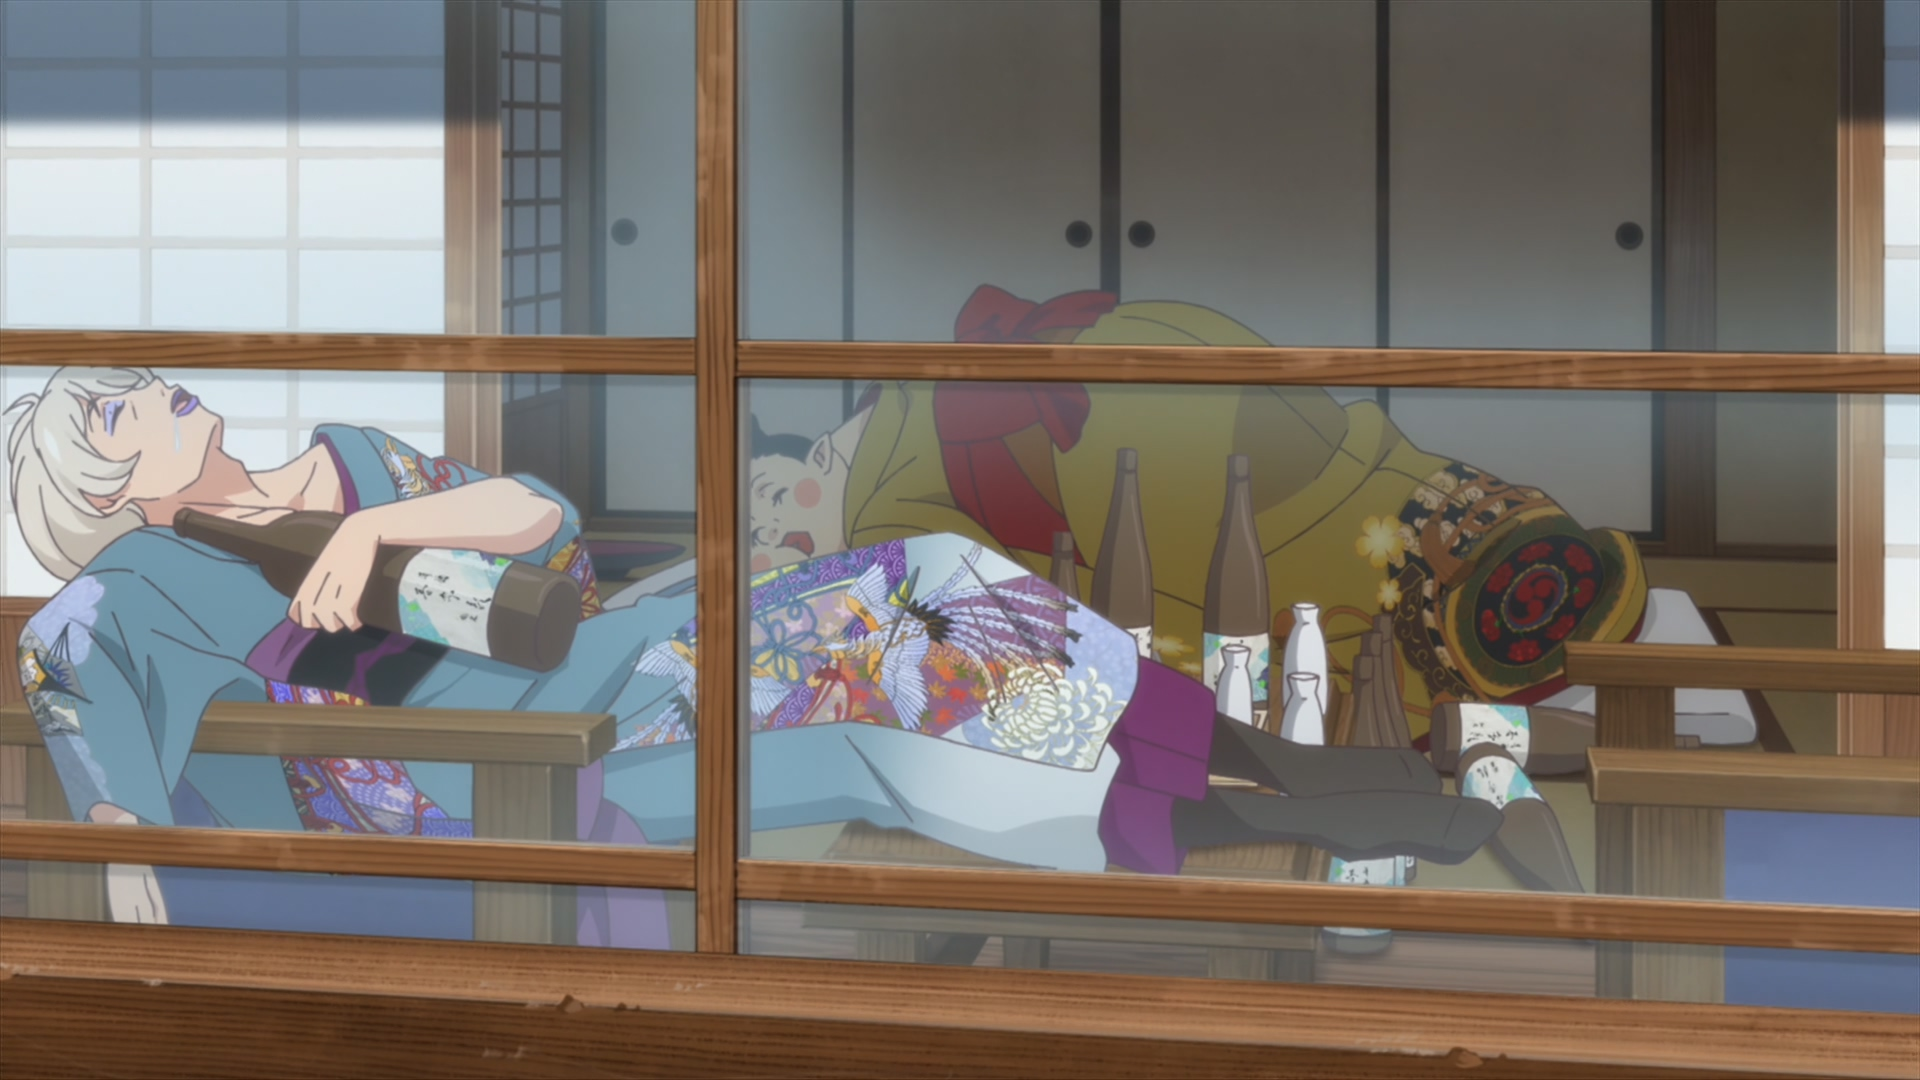其他: (1, 364, 1505, 924), (749, 286, 1648, 742)
